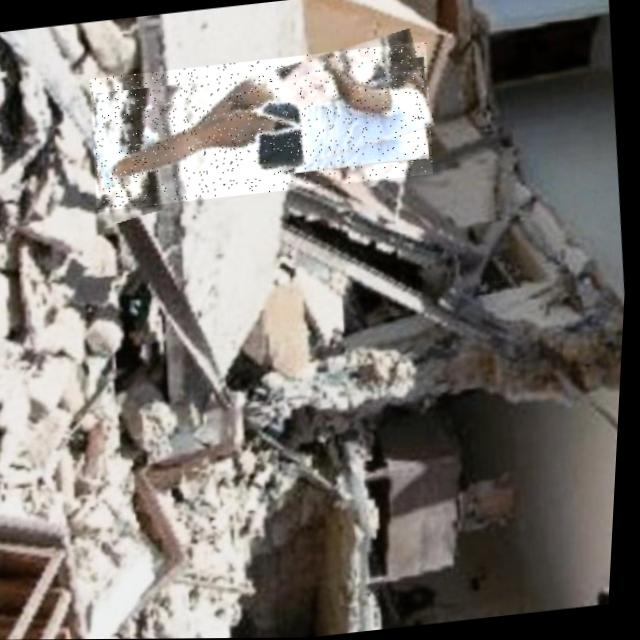Person in Rubble: (84, 42, 439, 211)
